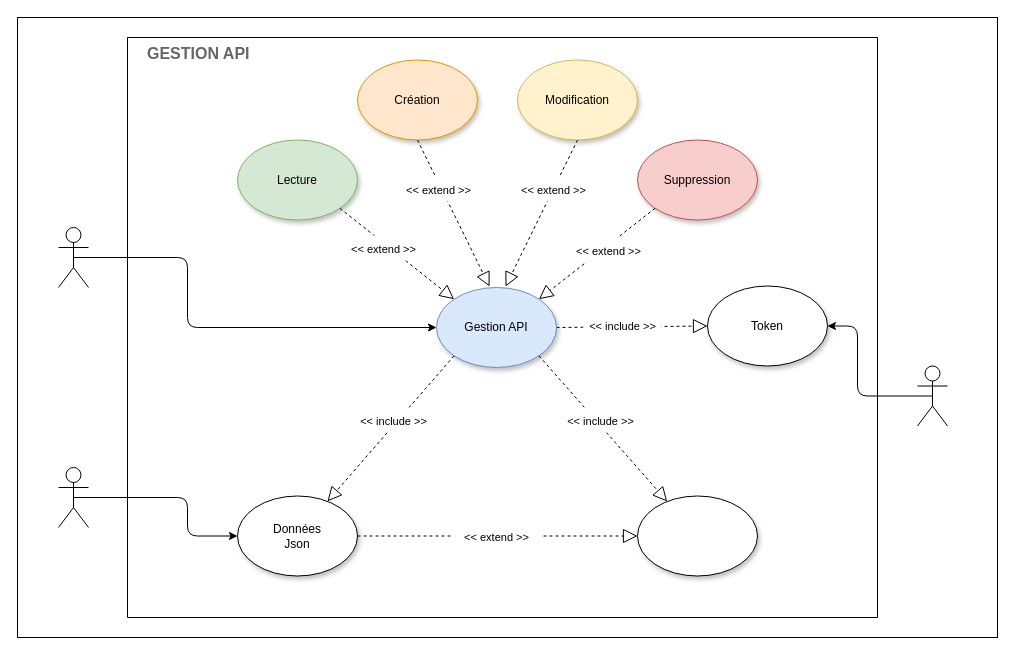
Some shapes in this 1015 by 655 pixel diagram are drawn without their labels. Here are the shapes that lost their labels. From the top down, the centre of each, then its label:
At pixel 73 257: "Client".
At pixel 932 395: "<<System>> JWT".
At pixel 73 497: "<<System>> Base de données".
At pixel 698 537: "Authentification".
